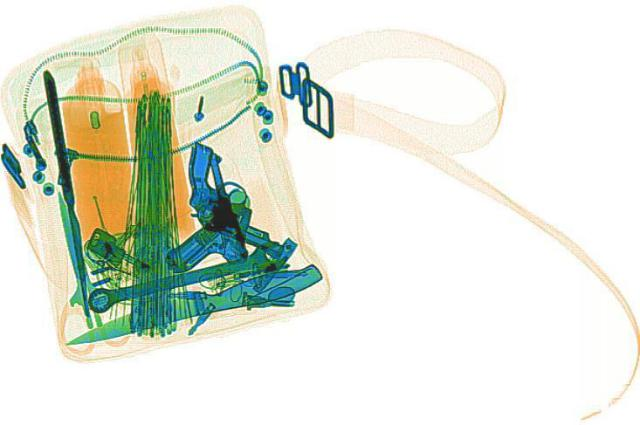Gun: (132, 140, 340, 255), (128, 152, 254, 271)
Knife: (53, 255, 327, 355), (39, 66, 100, 327), (55, 191, 99, 326)
Wrench: (77, 237, 296, 311)
